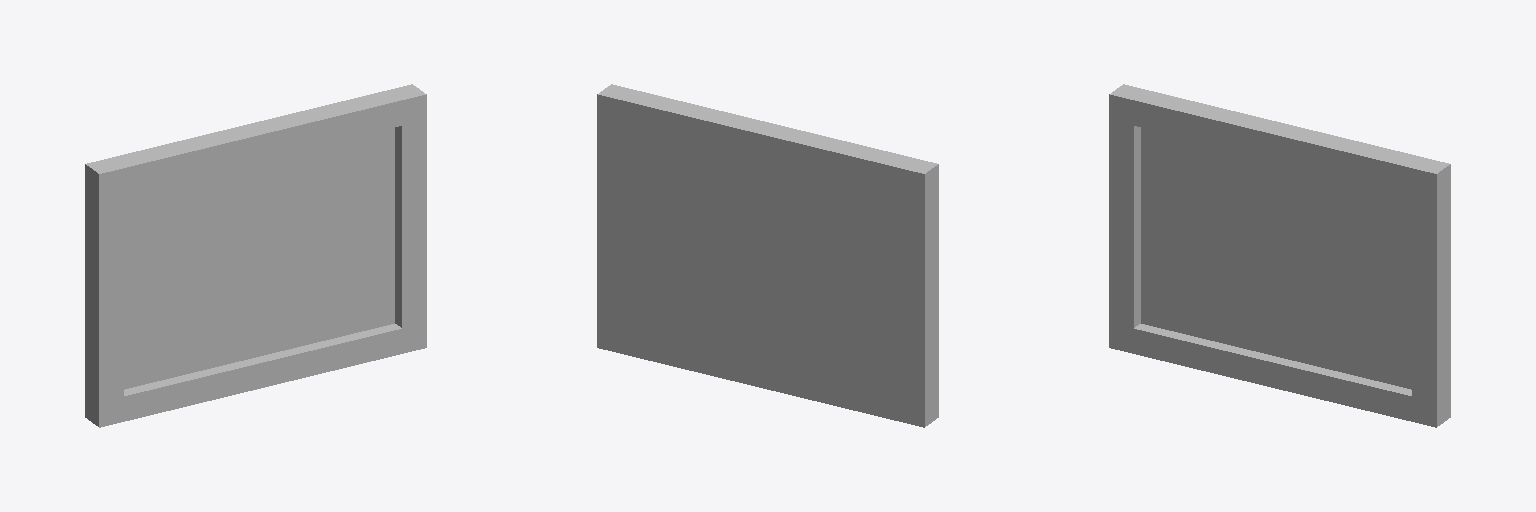
File: Painting3.obj
3 views of the same model, side by side, from view 1: azimuth 30°, elevation 25°; view 2: azimuth 150°, elevation 25°; view 3: azimuth 330°, elevation 25° (orthographic).
Parts seen in each view (by area): view 1: object 1; view 2: object 1; view 3: object 1.
Boxes of the visible parts, box(x1,y1,x2,y2) form: object 1: box(85, 84, 426, 427); object 1: box(597, 84, 938, 427); object 1: box(1109, 84, 1450, 427).
Bounding box in the file's own units: 2.7 × 2 × 0.2.